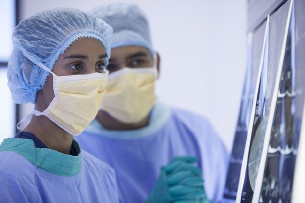Mask: (41, 49, 117, 125)
